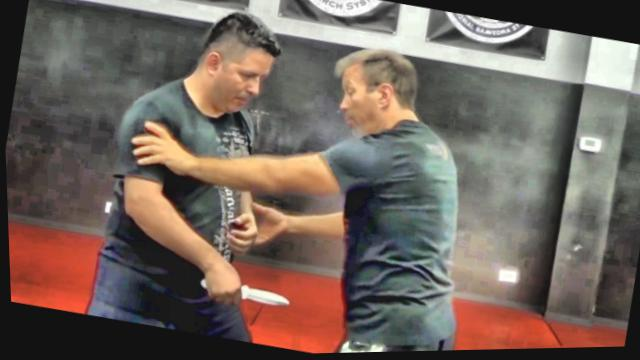knife: (192, 270, 298, 318)
